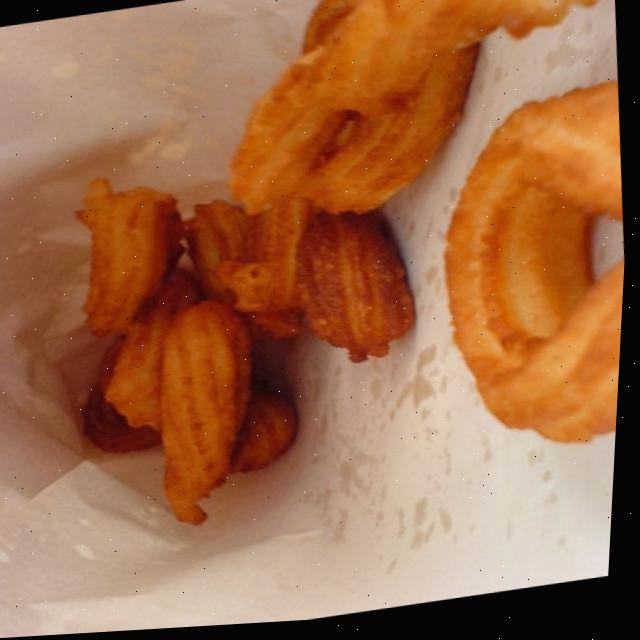炸货点心: (0, 0, 640, 578)
